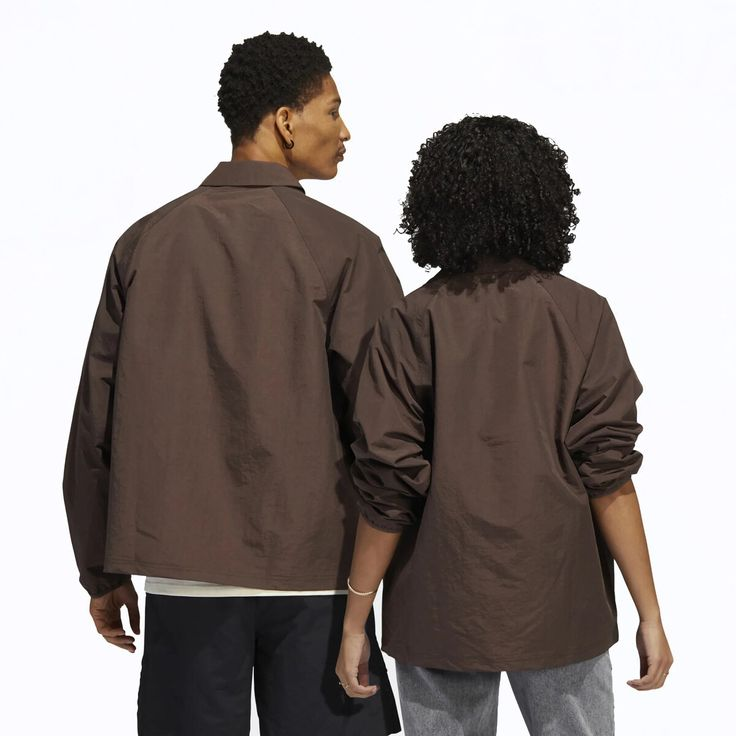nylon: (63, 161, 643, 673)
